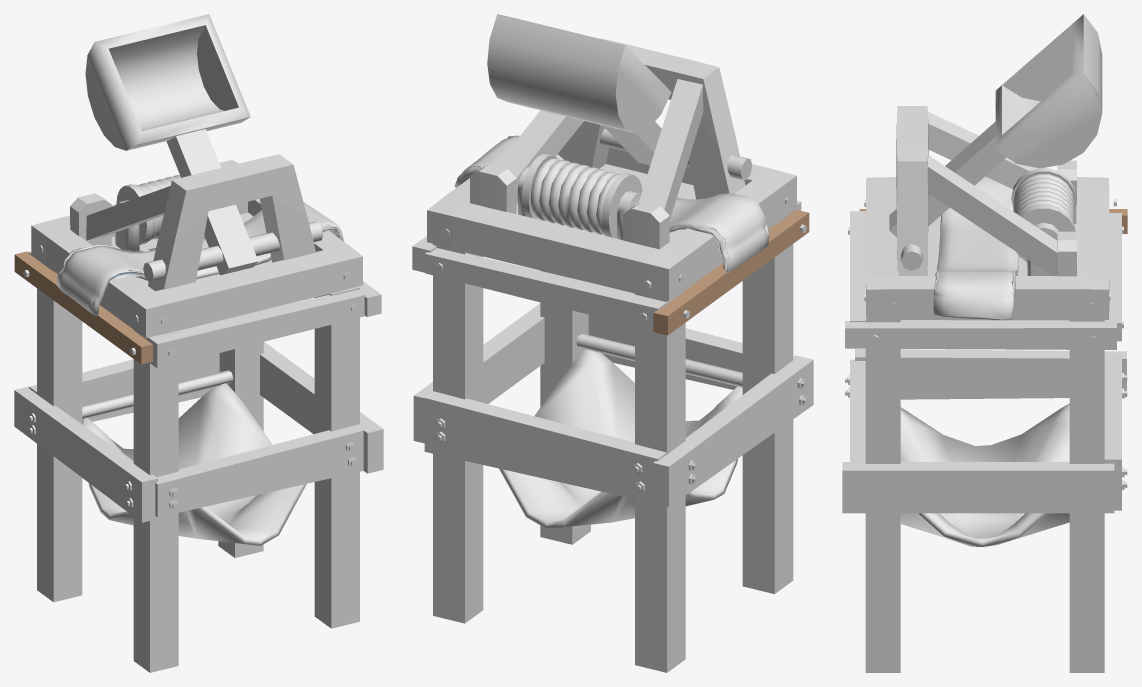
Rendered from area tower tier 2 rotate.fbx.
3 views of the same model, side by side, from view 1: azimuth 30°, elevation 25°; view 2: azimuth 150°, elevation 25°; view 3: azimuth 270°, elevation 25° (orthographic). The views are drawn at different scales.
Parts seen in each view (by area): view 1: Plane.123, Cube.646, Cube.644; view 2: Plane.123, Cube.646, Cube.644; view 3: Plane.123, Cube.646, Cube.644.
Boxes of the visible parts, x1=… form: Plane.123: x1=14, y1=251, x2=383, y2=672; Cube.646: x1=31, y1=154, x2=362, y2=337; Cube.644: x1=85, y1=14, x2=258, y2=275; Plane.123: x1=412, y1=201, x2=813, y2=672; Cube.646: x1=427, y1=38, x2=796, y2=300; Cube.644: x1=487, y1=14, x2=671, y2=165; Plane.123: x1=842, y1=209, x2=1127, y2=672; Cube.646: x1=864, y1=106, x2=1116, y2=320; Cube.644: x1=889, y1=14, x2=1102, y2=237.
Size of what is drawn, in the model's own units: 432 by 882 by 397.
